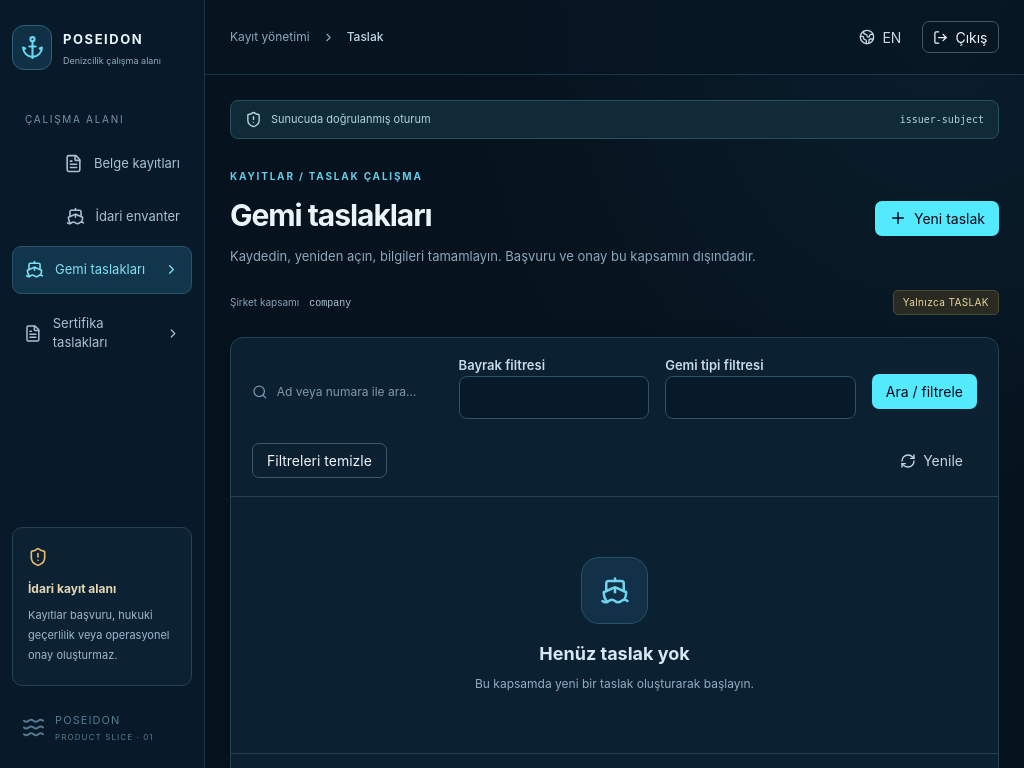
Test: BFF browser mode › retains dirty edits on navigation cancel and clears only after confirmed logout
Check: the heading "Henüz taslak yok" is shown, box [539,643,690,664]
Click the button "Yeni taslak" at (937, 218), box [875,201,999,236]
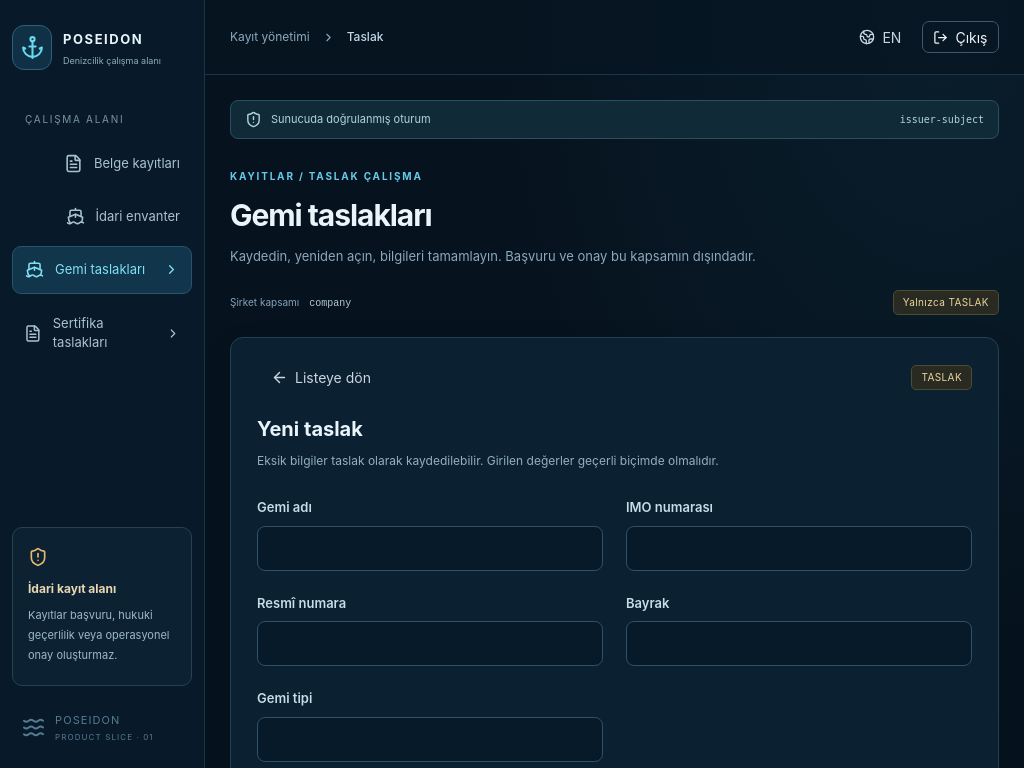
Type "Unsaved BFF" into the field labelled "Gemi adı" at (430, 548), box [257,526,603,571]
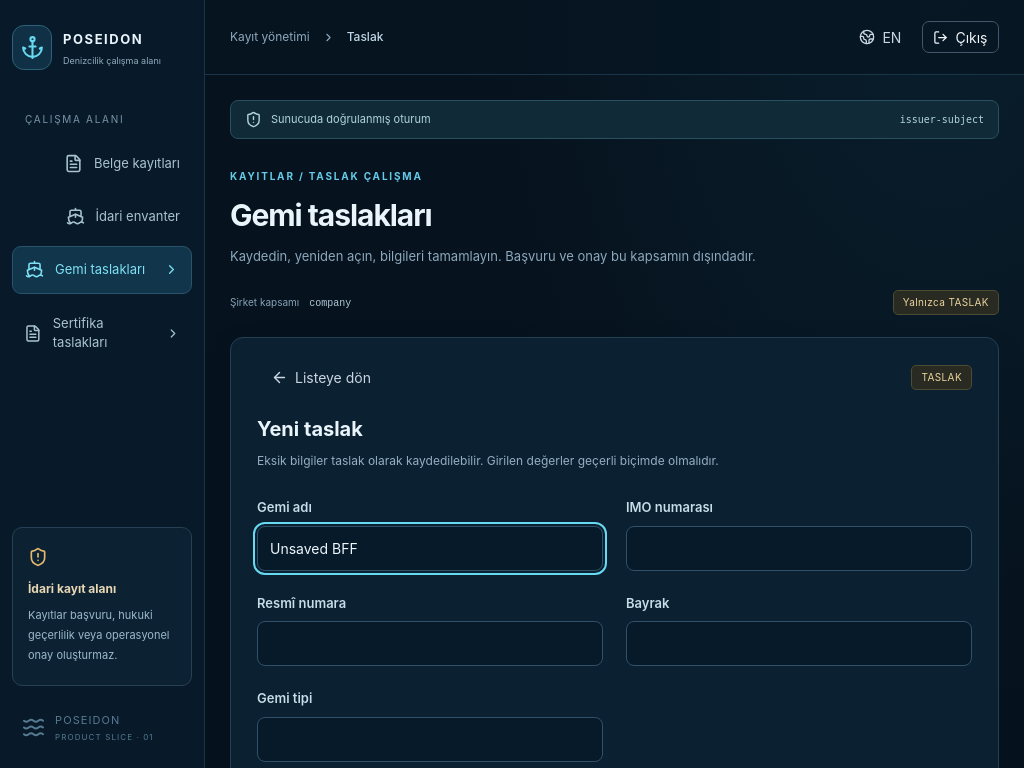
Click the button "Sertifika taslakları" at (102, 333), box [12,300,192,366]
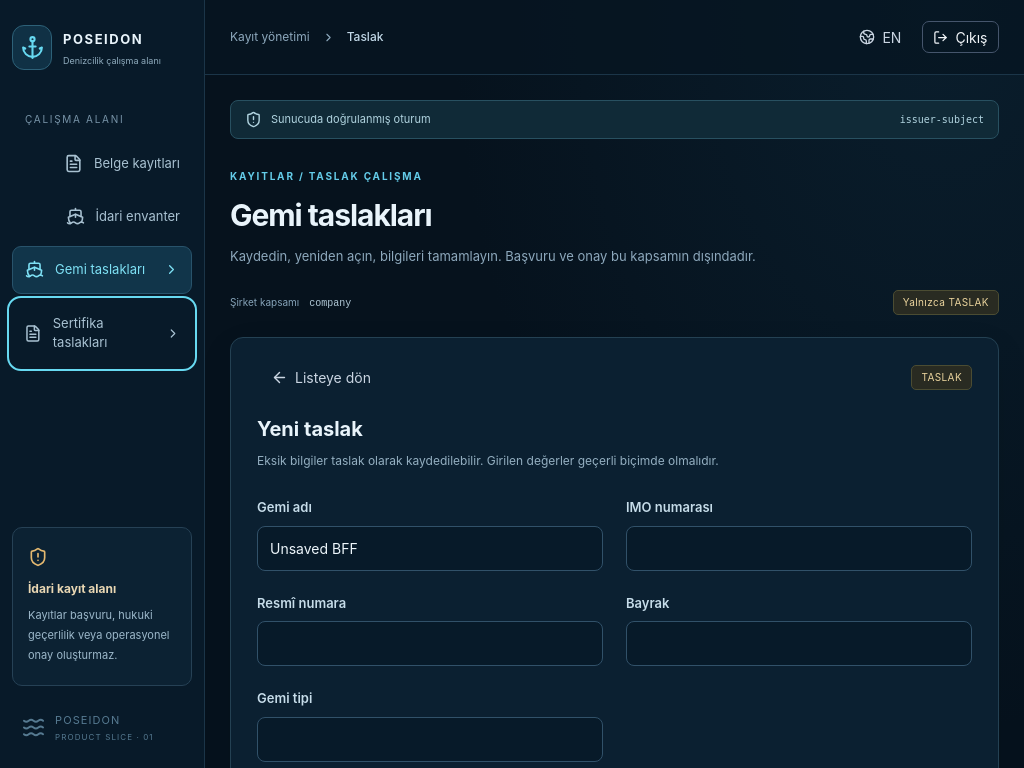
Click the button "Çıkış" at (960, 37), box [922,21,999,53]
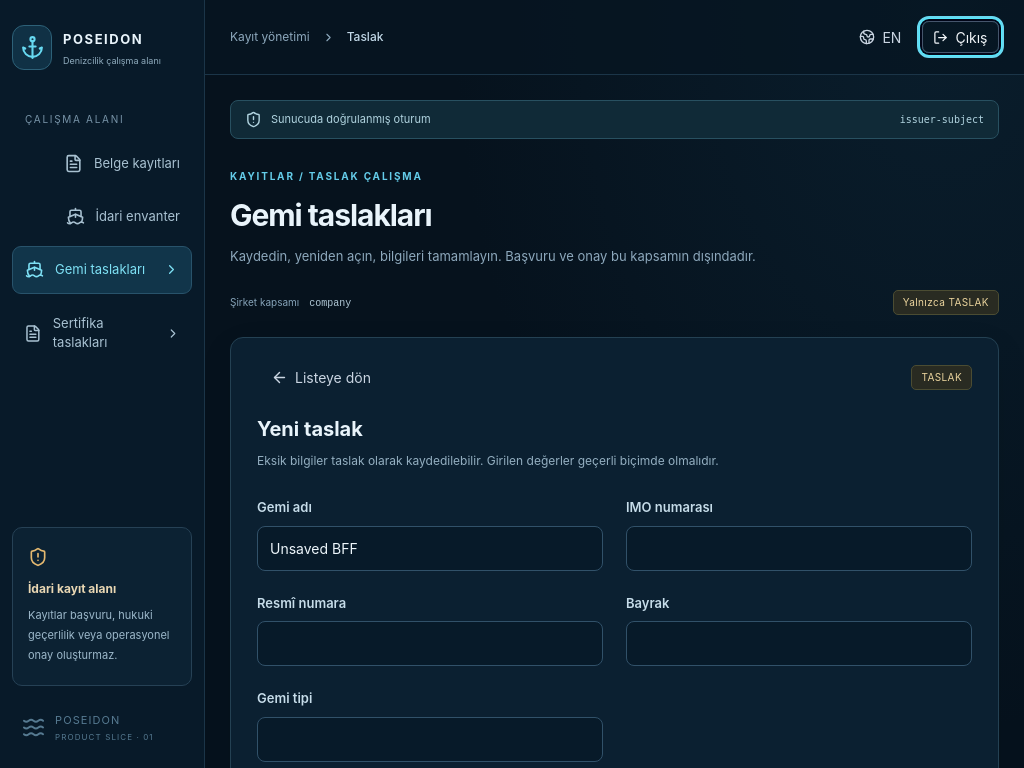
Click the button "Çıkış" at (960, 37), box [922,21,999,53]
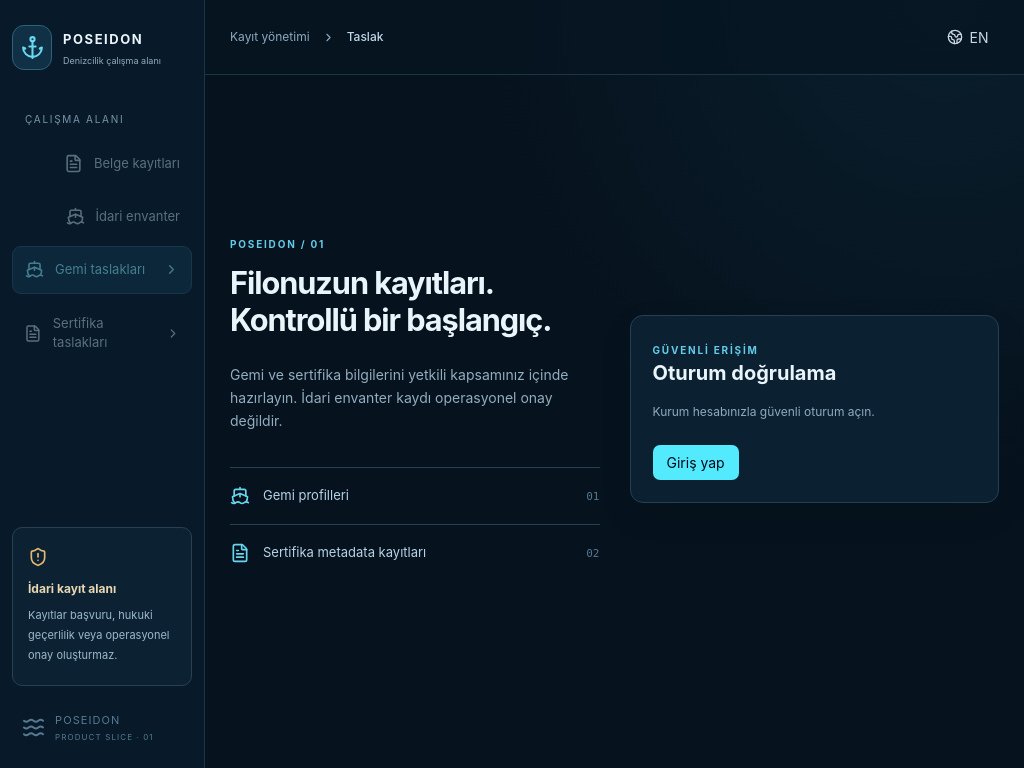
Check: the field showing "Unsaved BFF" is not shown
Check: the button "Giriş yap" is shown, box [652,445,739,480]
